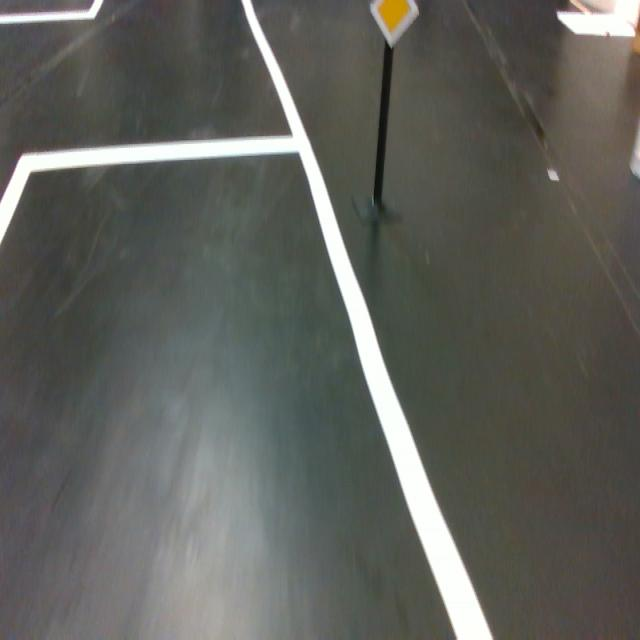priority-sign: (368, 0, 420, 50)
